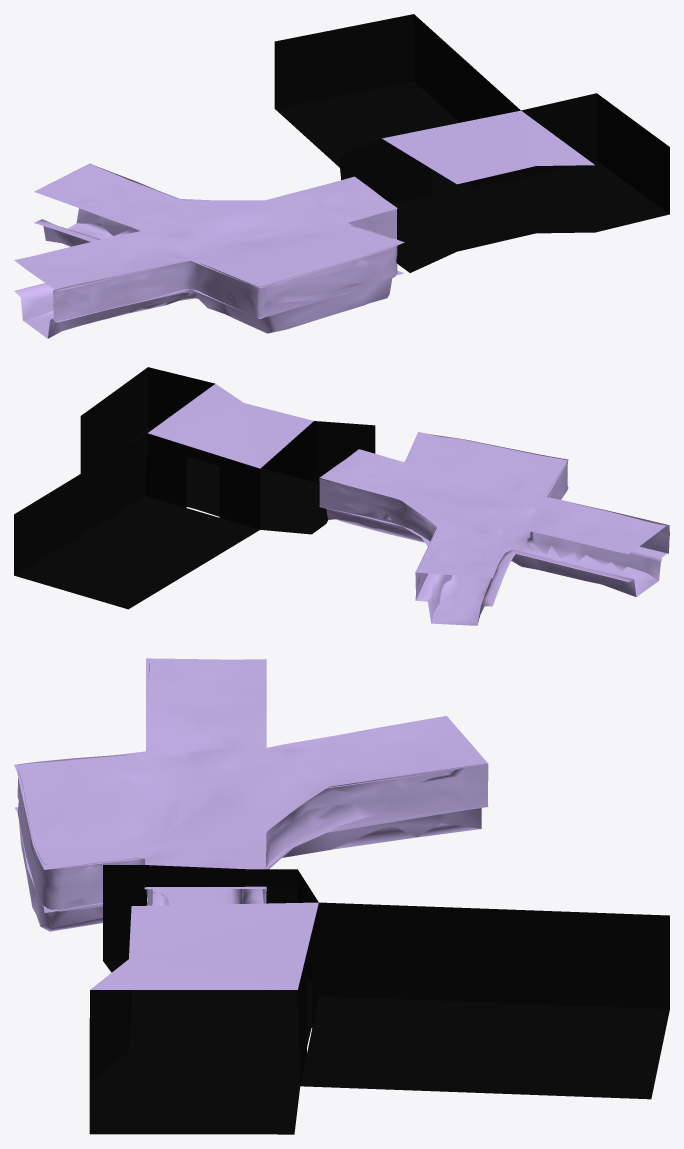
The model's file is Unique 5.fbx.
3 renders of one model, top to bottom at view 1: azimuth 30°, elevation 25°; view 2: azimuth 150°, elevation 25°; view 3: azimuth 270°, elevation 25°, orthographic. The views are drawn at different scales.
Visible parts, largest first — view 1: Unique_5, Unique_5.002, Unique_5.001, Unique_5.004, Unique_5.003; view 2: Unique_5, Unique_5.002, Unique_5.004, Unique_5.001, Unique_5.003; view 3: Unique_5, Unique_5.002, Unique_5.001, Unique_5.003, Unique_5.004.
Part boxes in pixels (x1,y1,x2,y2): Unique_5: [14, 14, 669, 338]; Unique_5.002: [14, 164, 404, 291]; Unique_5.001: [53, 163, 397, 321]; Unique_5.004: [381, 139, 521, 203]; Unique_5.003: [23, 223, 384, 338]; Unique_5: [14, 367, 667, 624]; Unique_5.002: [320, 432, 666, 578]; Unique_5.004: [146, 433, 260, 529]; Unique_5.001: [319, 434, 669, 599]; Unique_5.003: [329, 519, 658, 625]; Unique_5: [14, 788, 669, 1134]; Unique_5.002: [14, 658, 487, 889]; Unique_5.001: [17, 659, 488, 911]; Unique_5.003: [23, 823, 480, 931]; Unique_5.004: [297, 903, 318, 1085].
Size of the model in its own units: 1854 by 210 by 1269.
